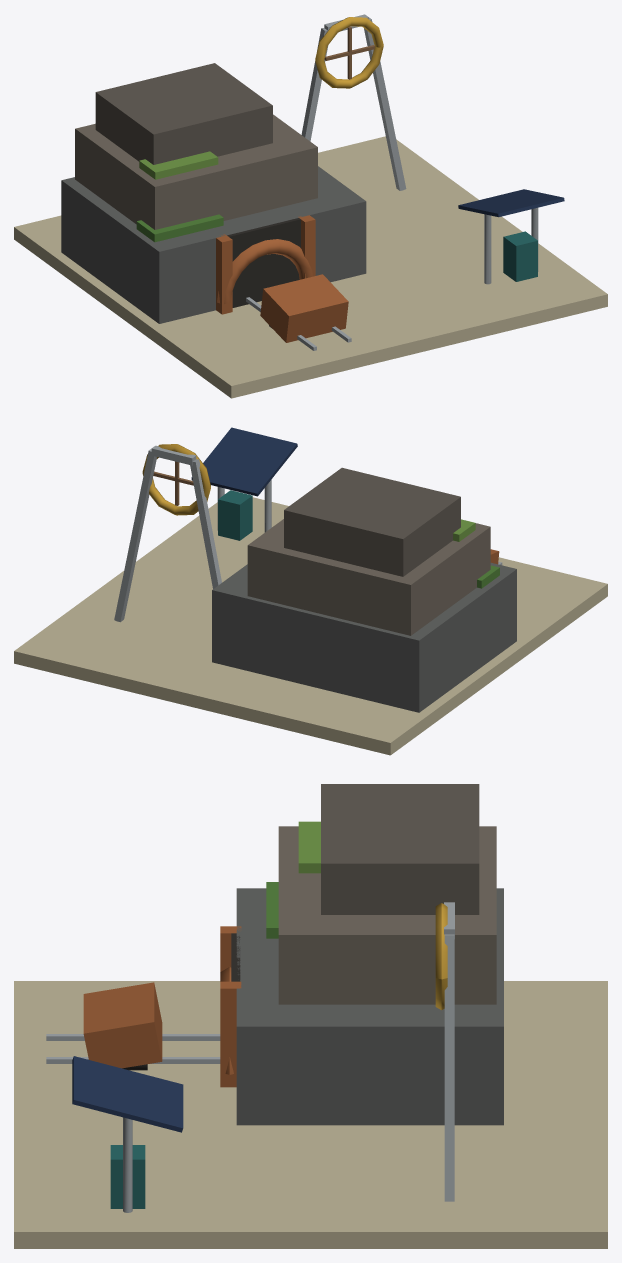
The model's file is b09-stonewake-mine-v2-lod0.glb.
3 renders of one model, top to bottom at view 1: azimuth 30°, elevation 25°; view 2: azimuth 150°, elevation 25°; view 3: azimuth 270°, elevation 25°, orthographic. The views are drawn at different scales.
Parts seen in each view (by area): view 1: MESH_B09_STONEWAKE_MINE; view 2: MESH_B09_STONEWAKE_MINE; view 3: MESH_B09_STONEWAKE_MINE.
Part boxes in pixels (bbox=[...]): MESH_B09_STONEWAKE_MINE: bbox=[14, 14, 607, 398]; MESH_B09_STONEWAKE_MINE: bbox=[14, 427, 607, 755]; MESH_B09_STONEWAKE_MINE: bbox=[14, 784, 607, 1248].
Bounding box in the file's own units: 12 × 6.09 × 12.
